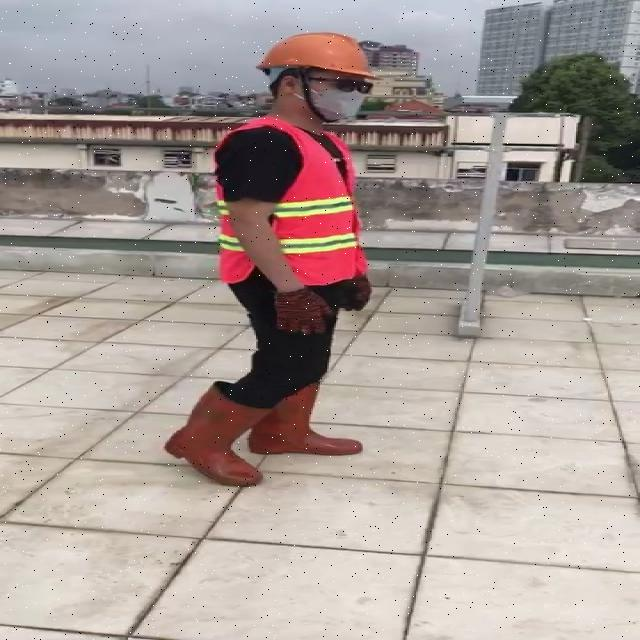Hard_hat: (252, 26, 381, 88)
Vest: (264, 119, 361, 286)
